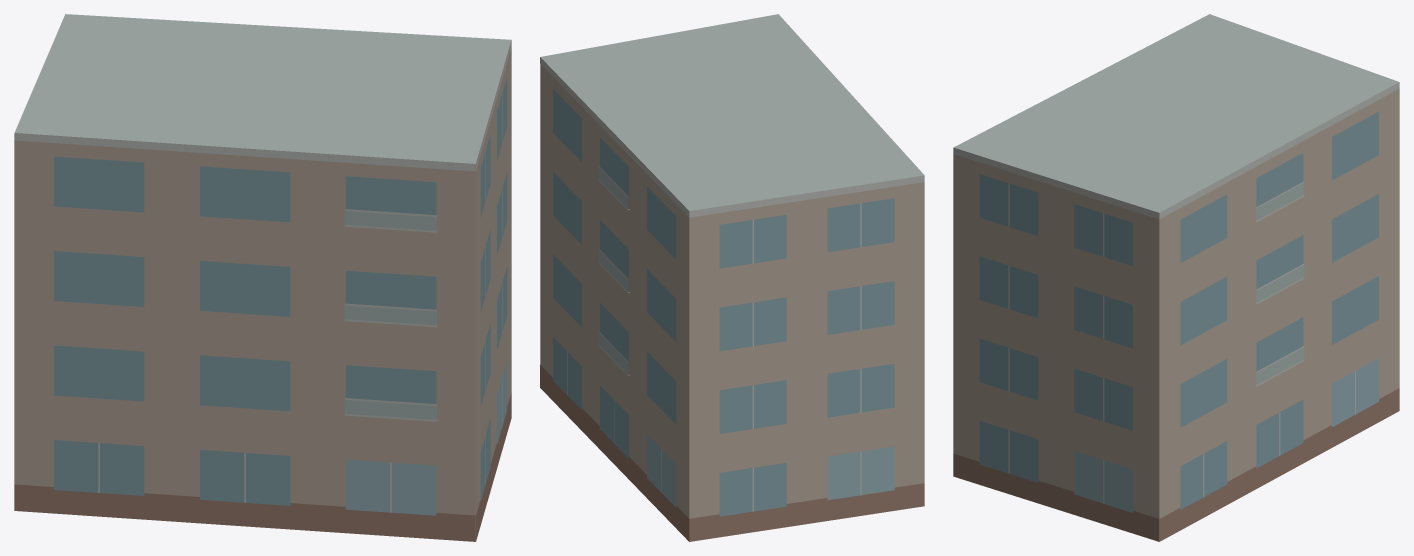
The model's file is survey-upis-32976494.glb.
3 renders of one model, left to right at view 1: azimuth 30°, elevation 25°; view 2: azimuth 150°, elevation 25°; view 3: azimuth 270°, elevation 25°, orthographic. The views are drawn at different scales.
Parts seen in each view (by area): view 1: survey-upis-32976494.tmp; view 2: survey-upis-32976494.tmp; view 3: survey-upis-32976494.tmp.
Boxes of the visible parts, x1,y1,x2,y2 form: survey-upis-32976494.tmp: (14,14,511,541); survey-upis-32976494.tmp: (540,14,924,541); survey-upis-32976494.tmp: (953,14,1399,541).
Size of the model in its own units: 15.83 by 12.2 by 15.
